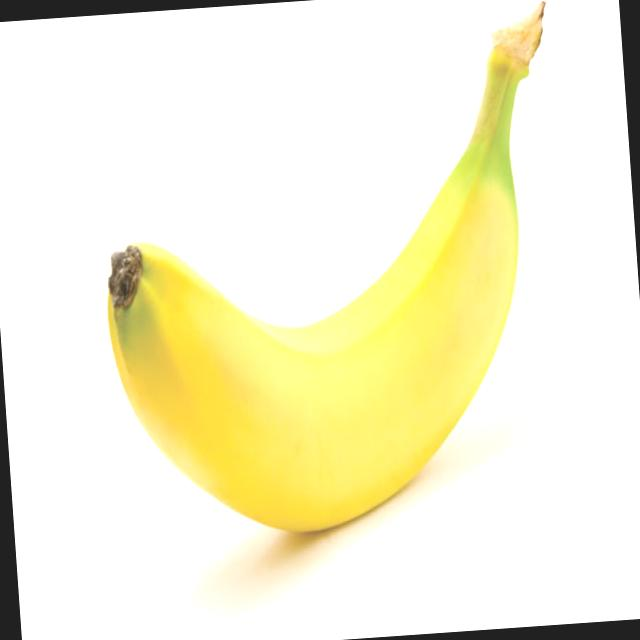banana: (78, 136, 561, 578)
